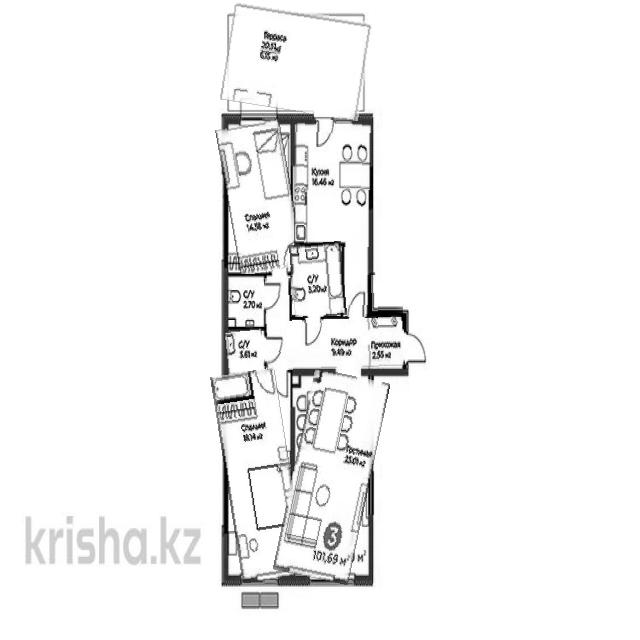balcony: (220, 4, 372, 121)
bathroom: (289, 241, 347, 319), (225, 328, 267, 397), (227, 274, 264, 326)
hallway: (265, 279, 405, 370)
kitchen: (293, 122, 372, 317)
living_room: (275, 368, 389, 584), (215, 368, 306, 583), (221, 122, 298, 274)
